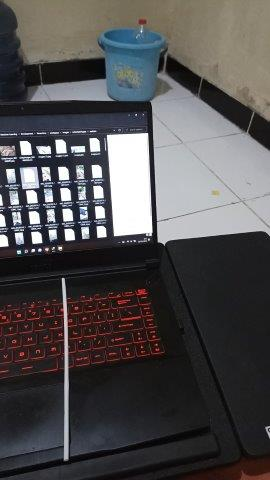sedotan: (61, 278, 69, 460)
